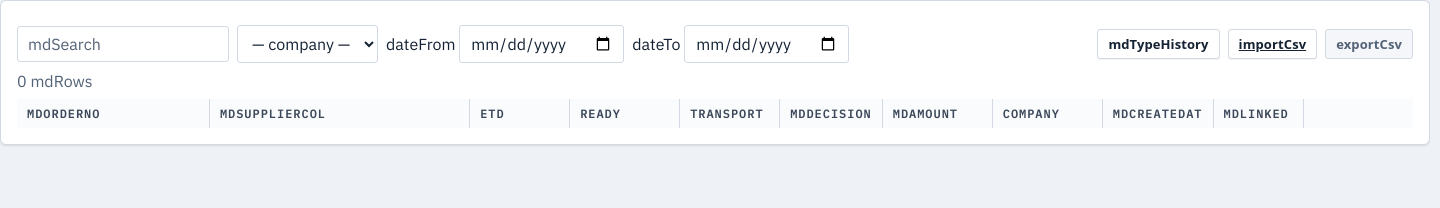
Test: SapOrdersTab › regresja: spóźniona odpowiedź starszego filtra nie nadpisuje nowszej
The width and height of the screenshot is (1440, 208).
Type "NOWY" into the field with placeholder "mdSearch". click: {"x": 123, "y": 44}
box: [17,26,229,62]
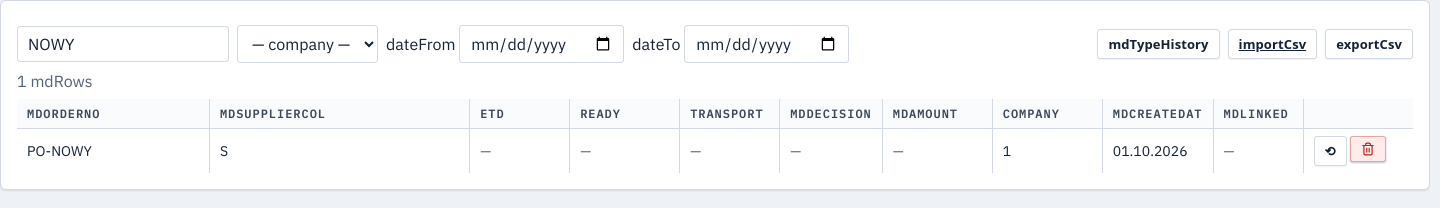
Check: the text "PO-NOWY" is shown, box [17,128,209,173]
